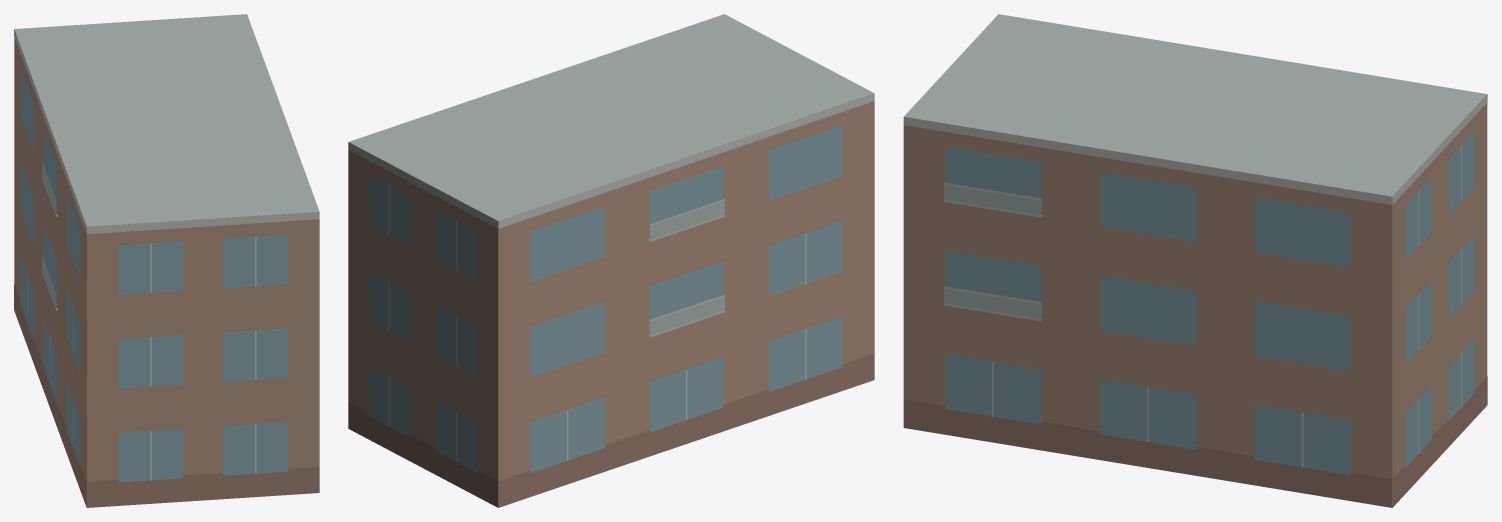
The model's file is survey-upis-32718978.glb.
3 views of the same model, side by side, from view 1: azimuth 30°, elevation 25°; view 2: azimuth 150°, elevation 25°; view 3: azimuth 270°, elevation 25° (orthographic). The views are drawn at different scales.
Visible parts, largest first — view 1: survey-upis-32718978.tmp; view 2: survey-upis-32718978.tmp; view 3: survey-upis-32718978.tmp.
Boxes of the visible parts, bbox=[...] form: survey-upis-32718978.tmp: bbox=[14, 14, 319, 507]; survey-upis-32718978.tmp: bbox=[348, 14, 874, 507]; survey-upis-32718978.tmp: bbox=[903, 14, 1487, 507].
Size of the model in its own units: 11.53 by 9.15 by 15.57.
